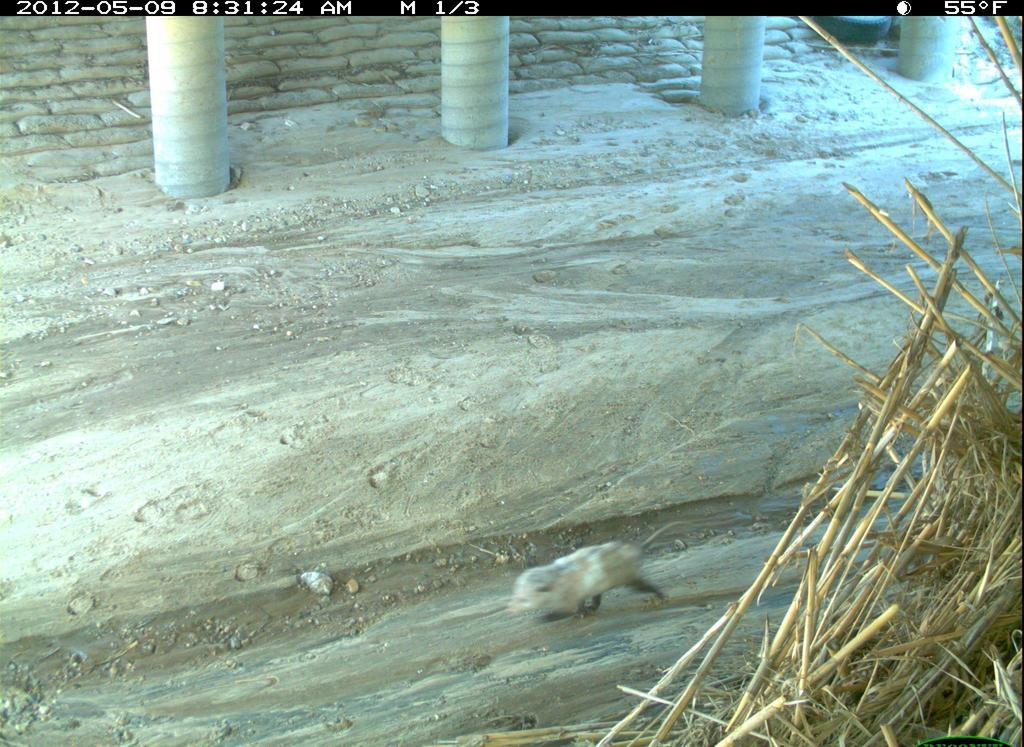opossum: (497, 516, 694, 635)
